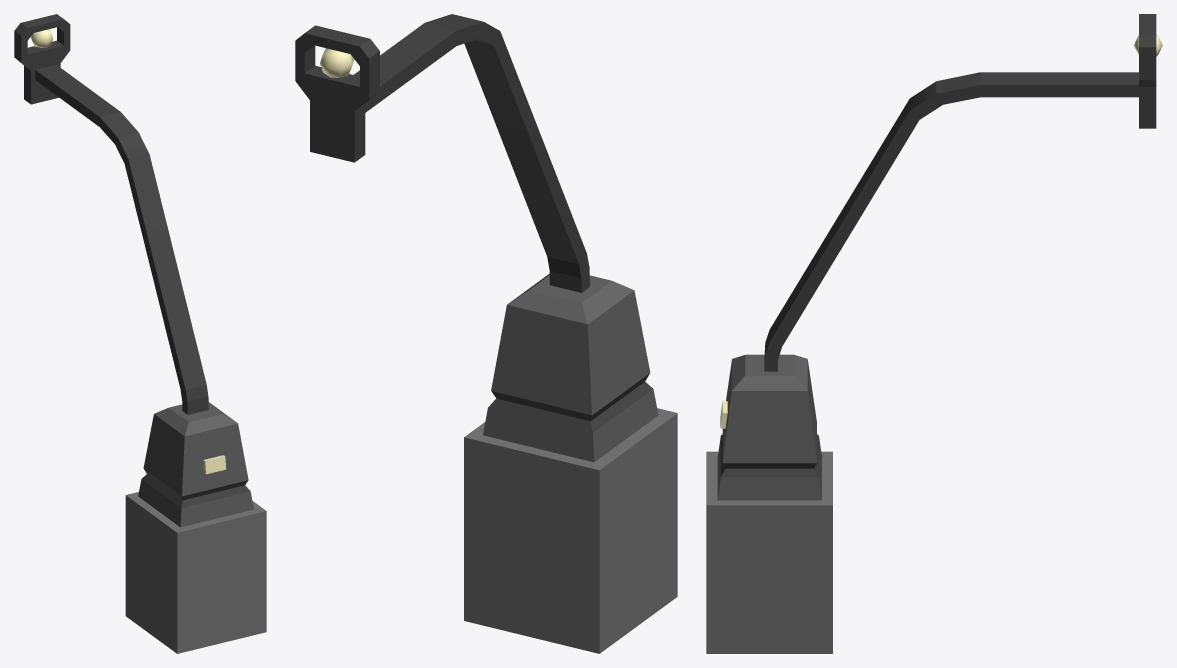
The model's file is antenna_001.fbx.
3 views of the same model, side by side, from view 1: azimuth 30°, elevation 25°; view 2: azimuth 150°, elevation 25°; view 3: azimuth 270°, elevation 25° (orthographic). The views are drawn at different scales.
Parts seen in each view (by area): view 1: antenna_001; view 2: antenna_001; view 3: antenna_001.
Boxes of the visible parts, x1,y1,x2,y2 form: antenna_001: [14, 14, 266, 653]; antenna_001: [295, 14, 677, 653]; antenna_001: [706, 14, 1162, 653].
Size of the model in its own units: 145 by 523 by 761.
